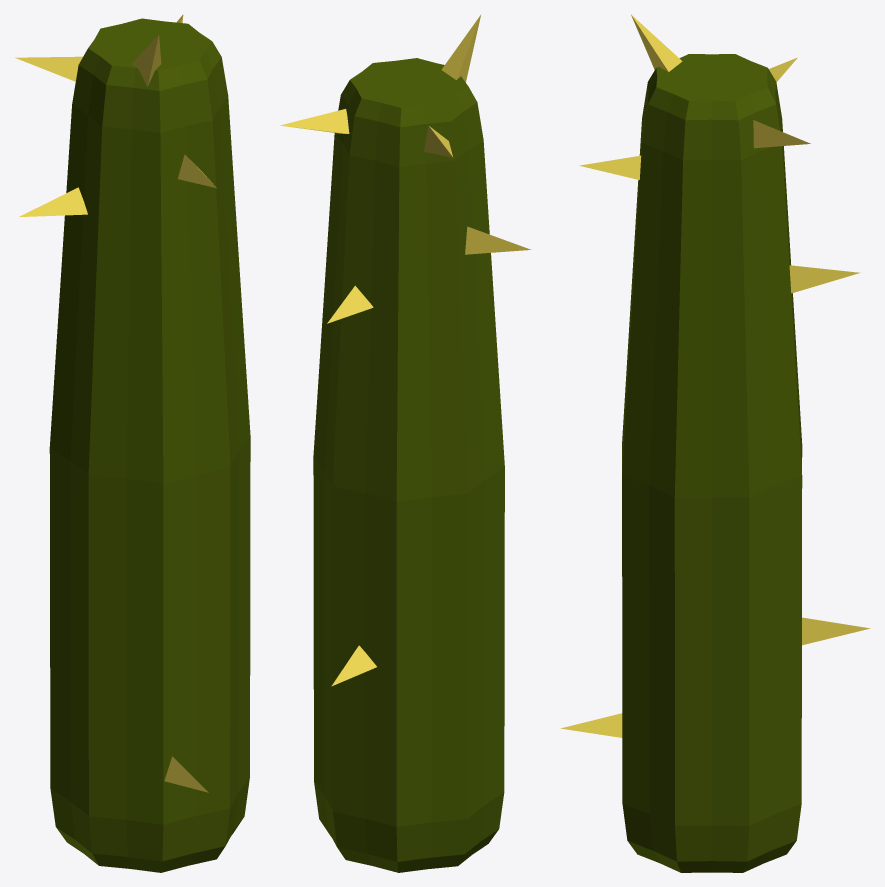
Rendered from Cactus_03_B.fbx.
3 views of the same model, side by side, from view 1: azimuth 30°, elevation 25°; view 2: azimuth 150°, elevation 25°; view 3: azimuth 270°, elevation 25° (orthographic). The views are drawn at different scales.
Visible parts, largest first — view 1: Cactus_03_B; view 2: Cactus_03_B; view 3: Cactus_03_B.
Part boxes in pixels (box(x1,y1,x2,y2)): Cactus_03_B: box(15, 14, 250, 872); Cactus_03_B: box(280, 15, 531, 872); Cactus_03_B: box(560, 14, 870, 872).
Bounding box in the file's own units: 47.82 × 179 × 62.23.
